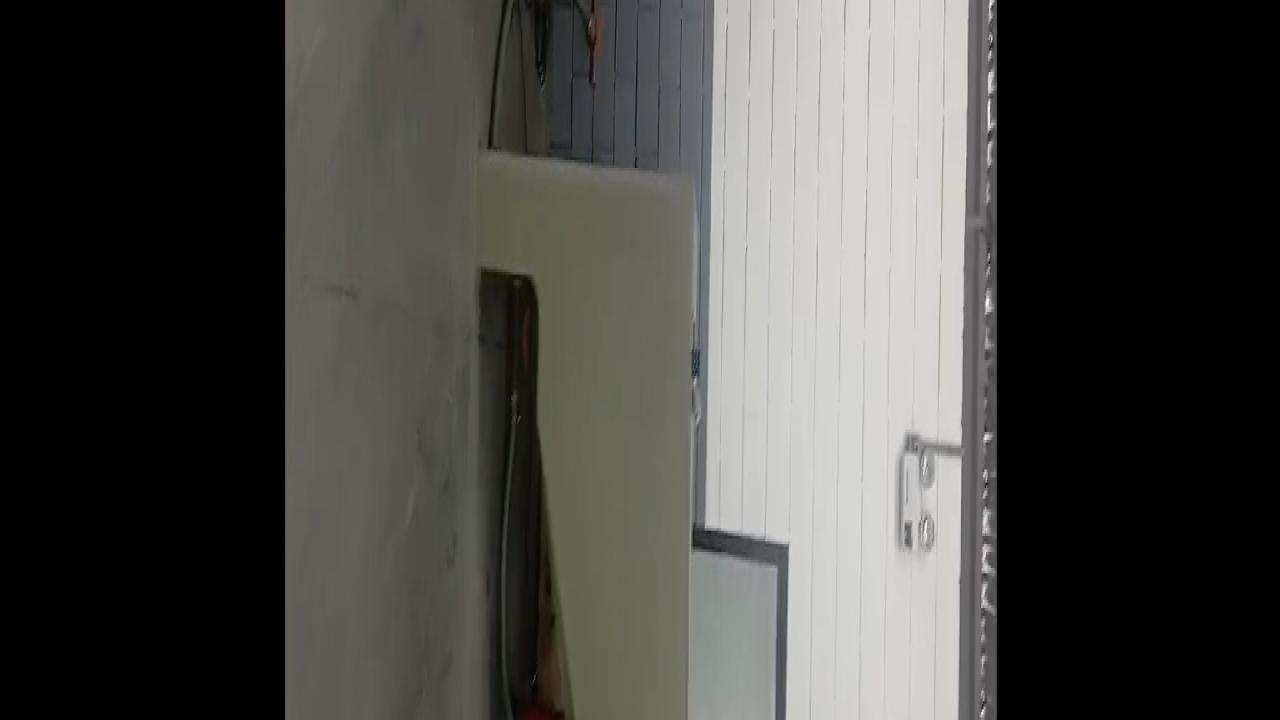Cube: (691, 347, 700, 381)
